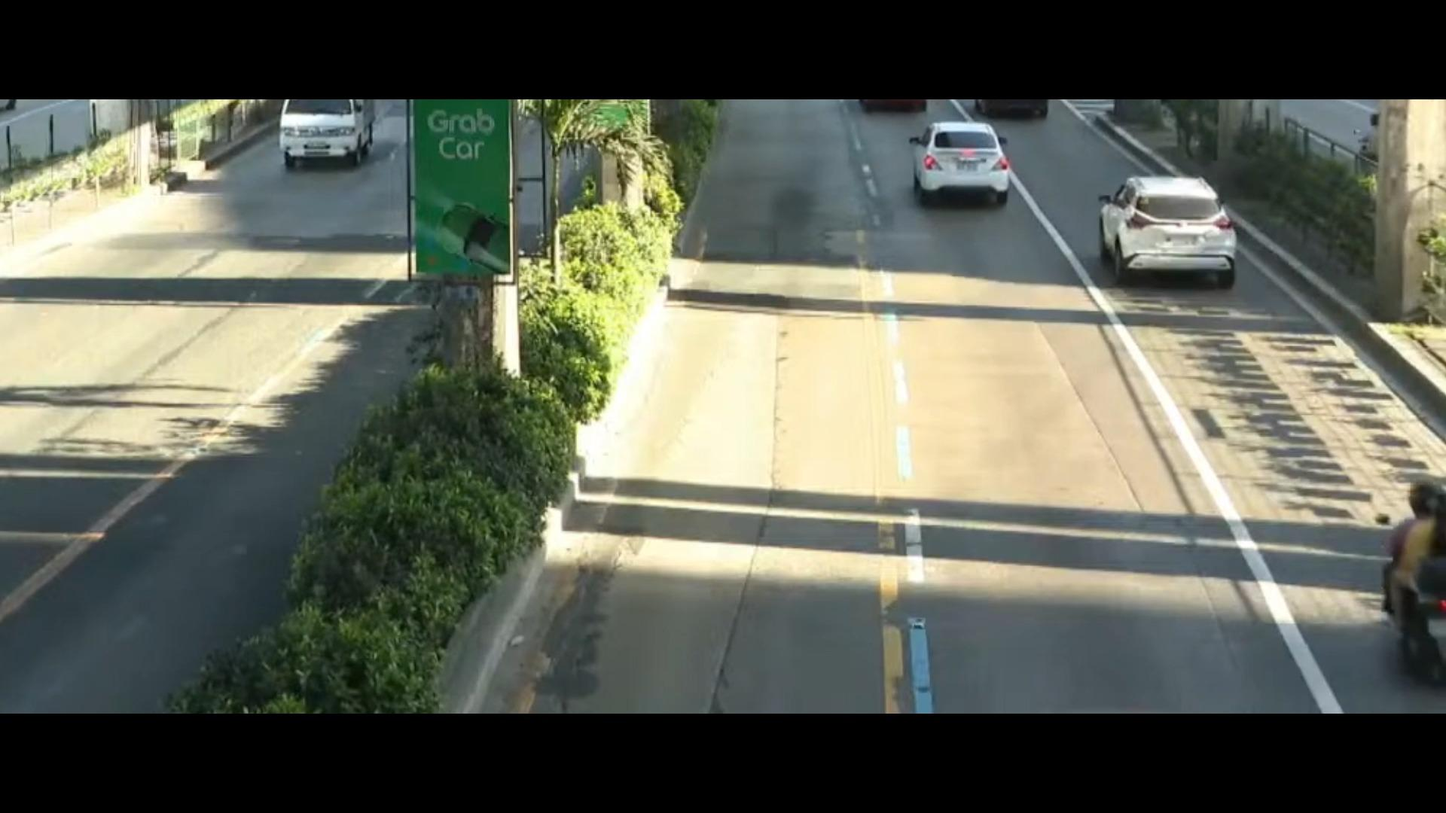Motorcycle: (1388, 469, 1446, 697)
Sedan: (1068, 157, 1254, 306), (902, 102, 1025, 215)
Van: (277, 98, 381, 192)
